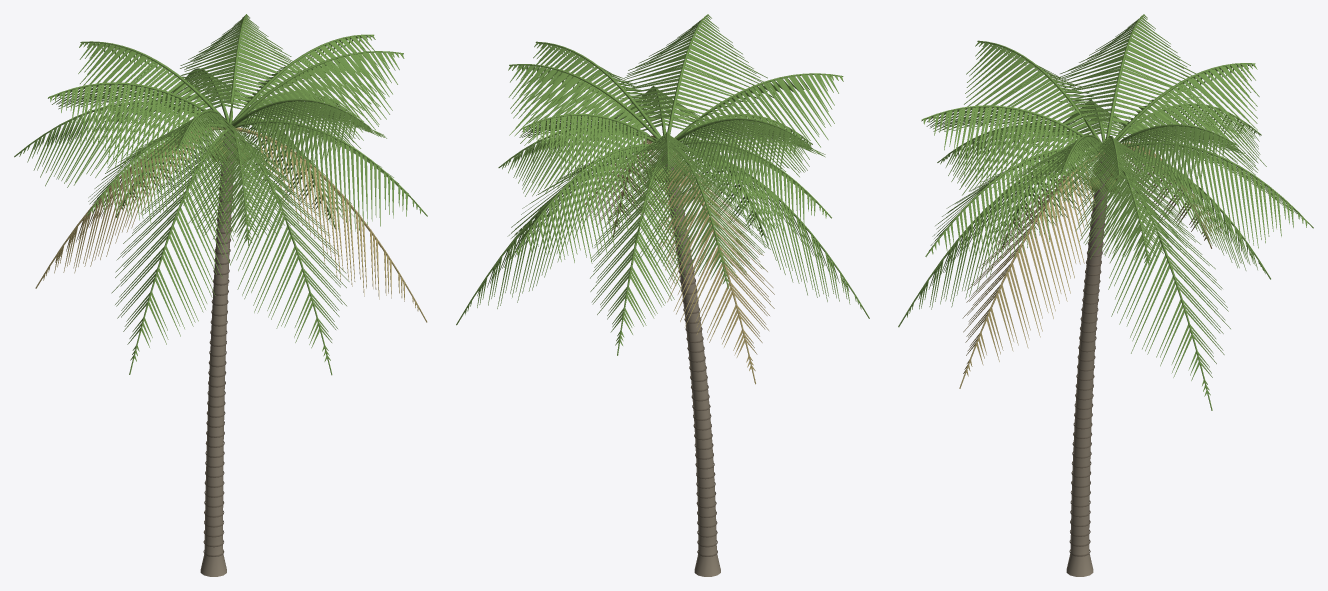
Rendered from city_palm_1.glb.
3 renders of one model, left to right at view 1: azimuth 30°, elevation 25°; view 2: azimuth 150°, elevation 25°; view 3: azimuth 270°, elevation 25°, orthographic.
Parts seen in each view (by area): view 1: Frond0; view 2: Frond0; view 3: Frond0.
Boxes of the visible parts, x1,y1,x2,y2 form: Frond0: (14,14,427,576); Frond0: (456,14,869,576); Frond0: (898,14,1313,576).
Size of the model in its own units: 7.59 by 11.08 by 8.38.
